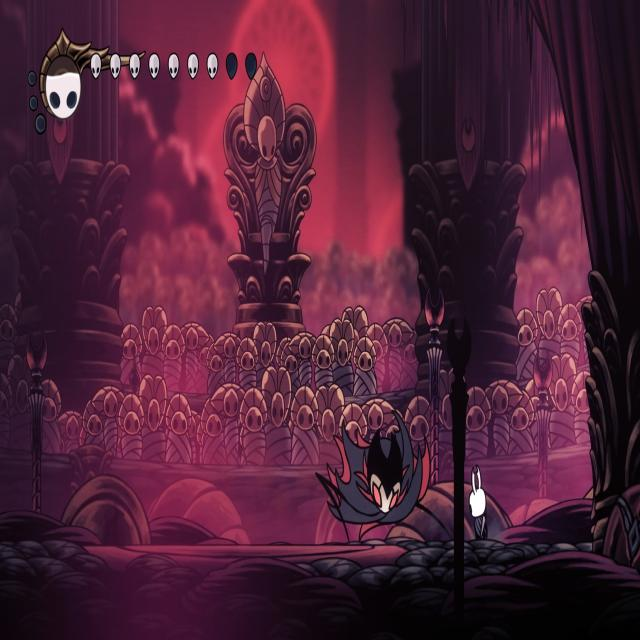Dash Uppercut: (317, 393, 441, 543)
Player: (467, 464, 490, 542)
